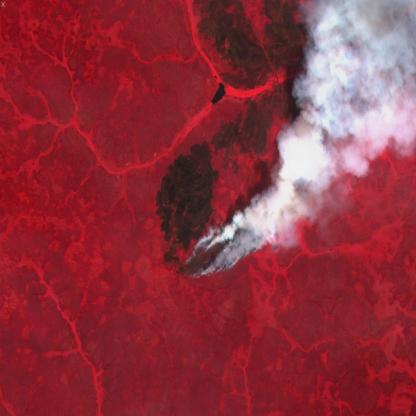fire: (182, 190, 285, 283)
